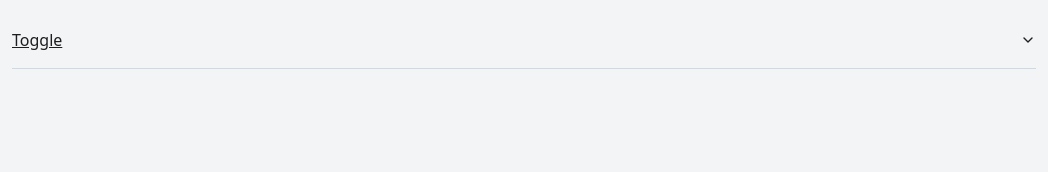
Test case: Accordion › Interactions › collapses content on second click when collapsible
Click the button at (37, 40), box [12,12,1036,68]
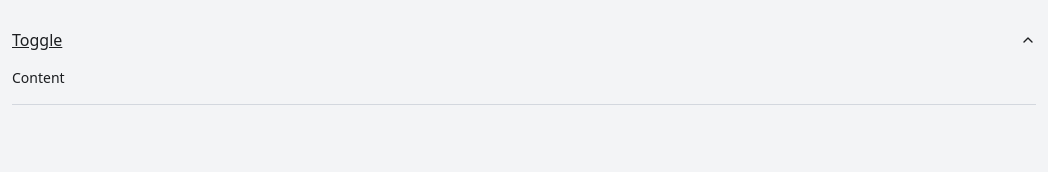
Expected: the button has attribute data-state="open"
Click the button at (37, 40), box [12,12,1036,68]
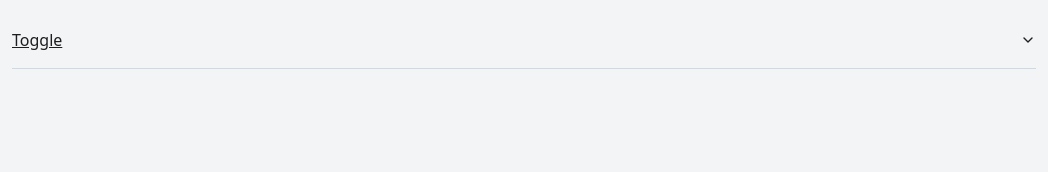
Expected: the button has attribute data-state="closed", [12,12,1036,68]
